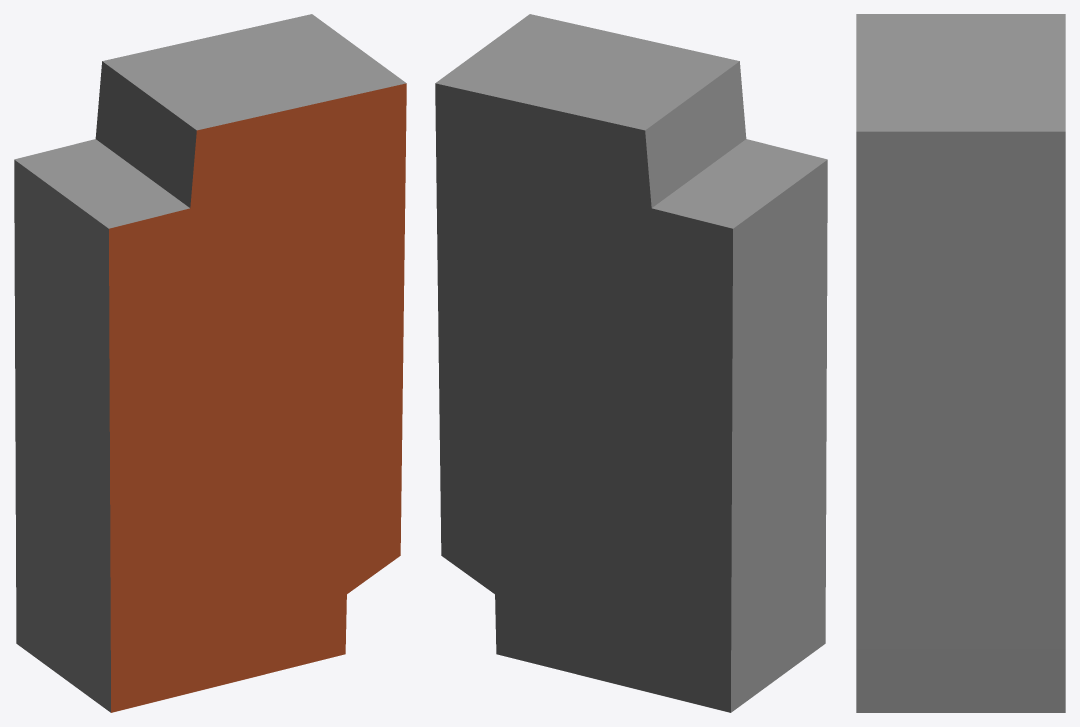
Rendered from construction_2967_assumed_A_Casa_h6m.obj.
The picture shows the model from 3 angles, left to right: view 1: azimuth 30°, elevation 25°; view 2: azimuth 150°, elevation 25°; view 3: azimuth 270°, elevation 25°; orthographic projection. The views are drawn at different scales.
Parts seen in each view (by area): view 1: construction_2967_assumed_A_Casa; view 2: construction_2967_assumed_A_Casa; view 3: construction_2967_assumed_A_Casa.
Part boxes in pixels (box(x1,y1,x2,y2)): construction_2967_assumed_A_Casa: box(14, 14, 406, 712); construction_2967_assumed_A_Casa: box(435, 14, 827, 712); construction_2967_assumed_A_Casa: box(856, 14, 1065, 712).
Size of the model in its own units: 10.9 by 19.63 by 6.
